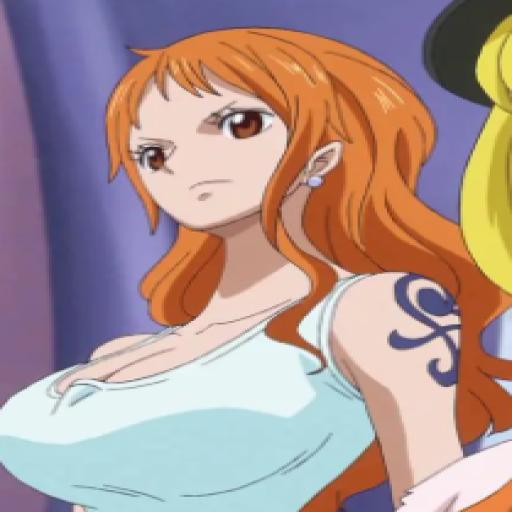Nami: (0, 25, 512, 512)
